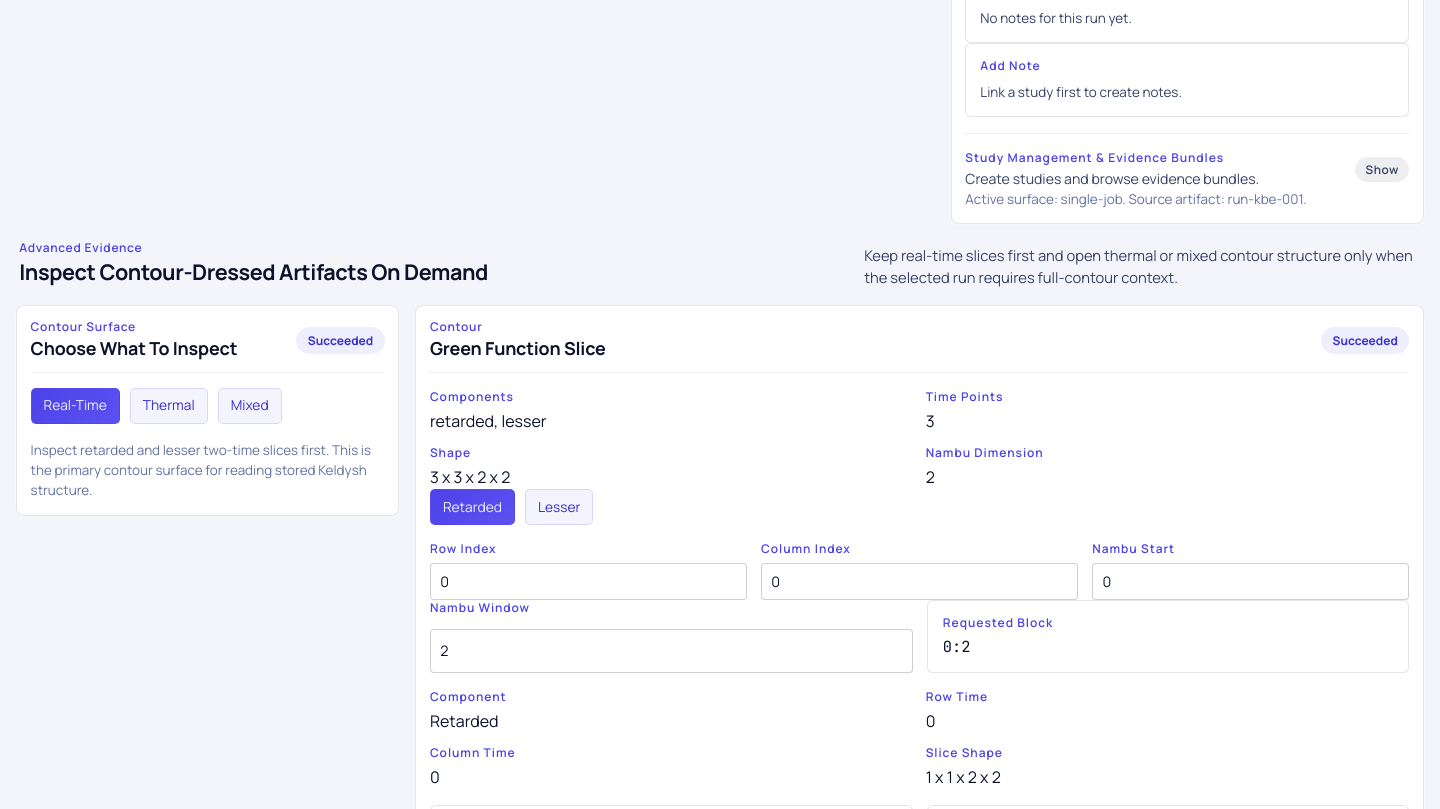
Test: App › loads a saved KBE run and exposes green-function slices
(page scrolled)
Expected: the heading "Green Function Slice" is shown, [430,335,606,362]
Expected: the button "Retarded" is shown, [430,489,515,526]
Click the button "Thermal" at (169, 406), box [130,388,208,424]
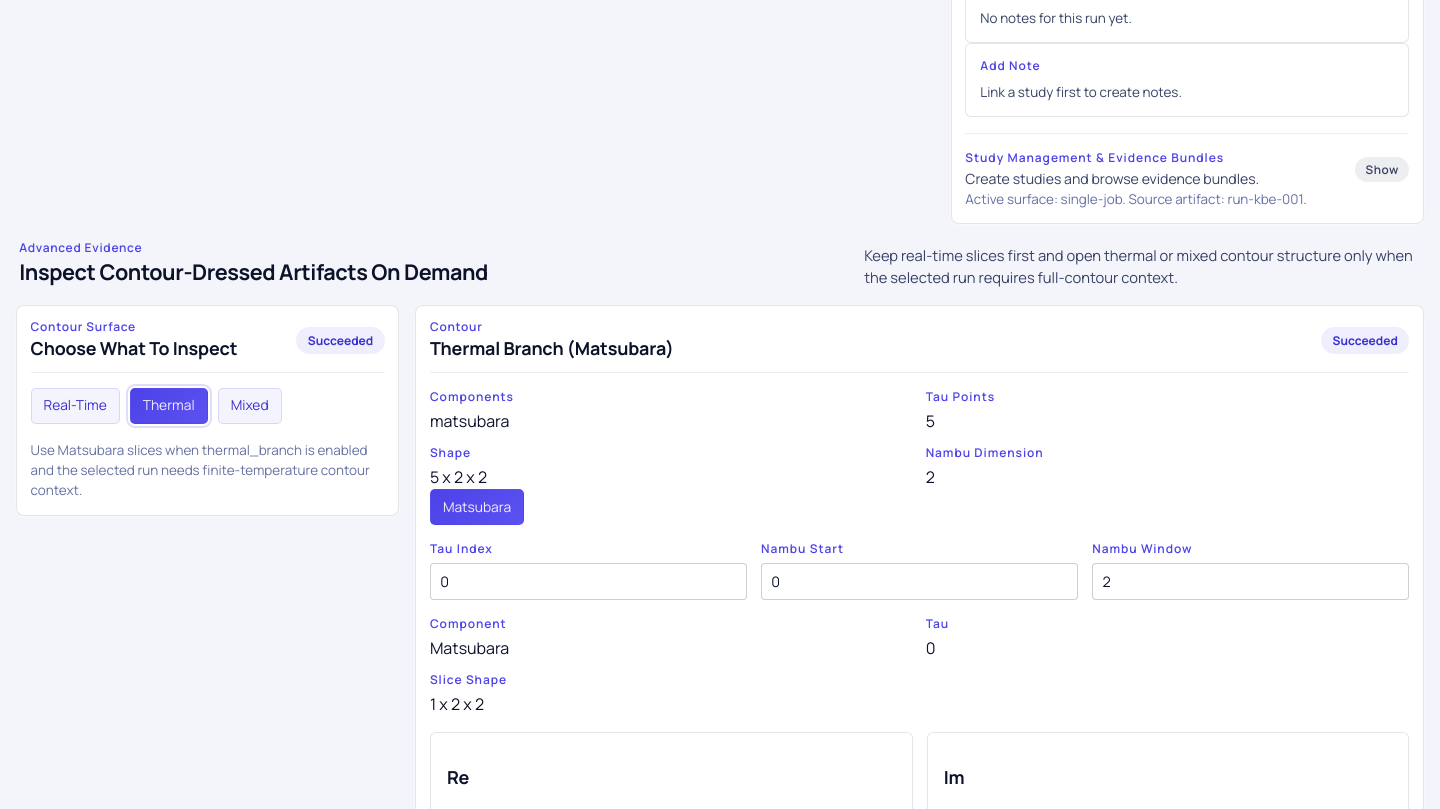
Result: the heading "Thermal Branch (Matsubara)" is shown at [430,335,674,362]
Click the button "Mixed" at (250, 406), box [218,388,282,424]
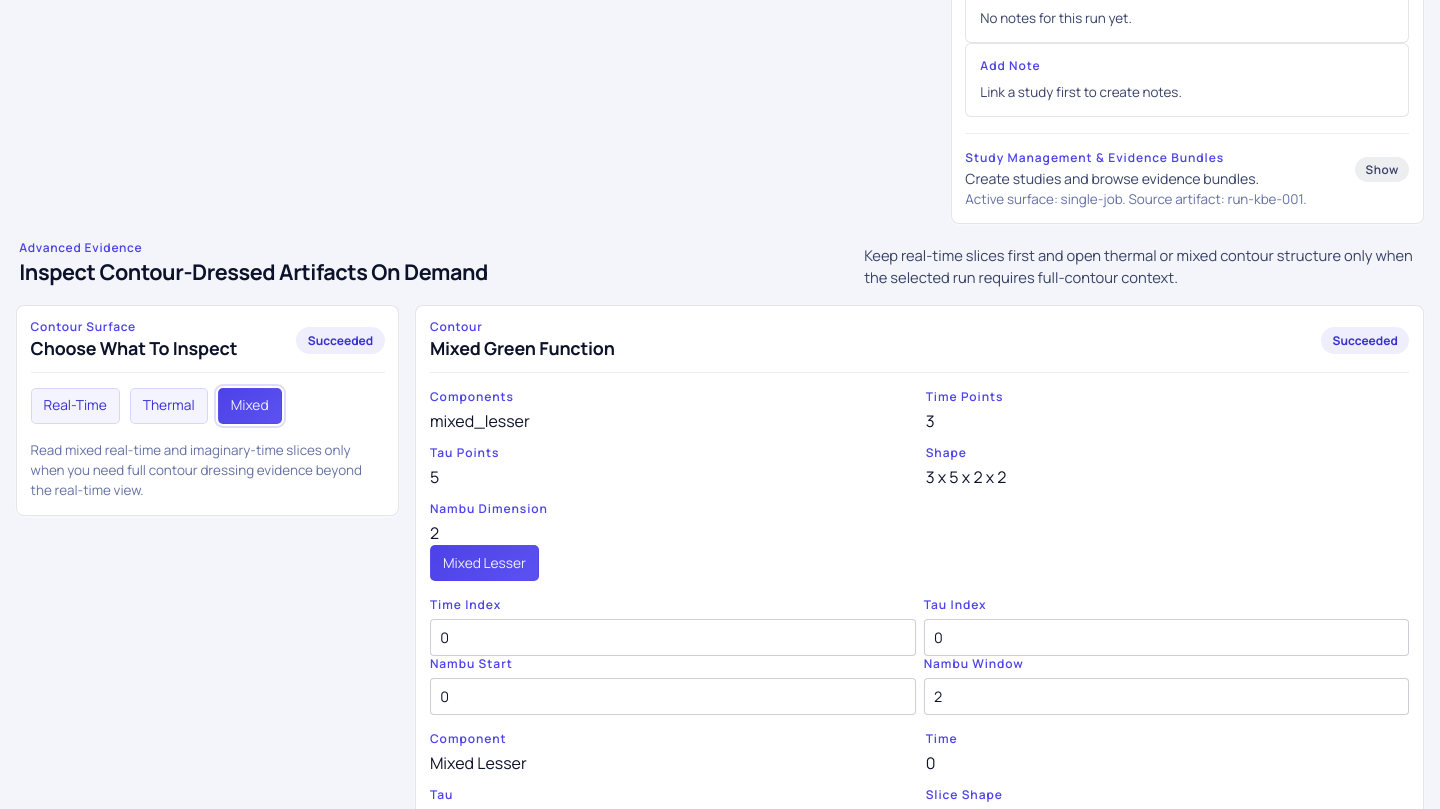
Result: the heading "Mixed Green Function" is shown at [430,335,615,362]
